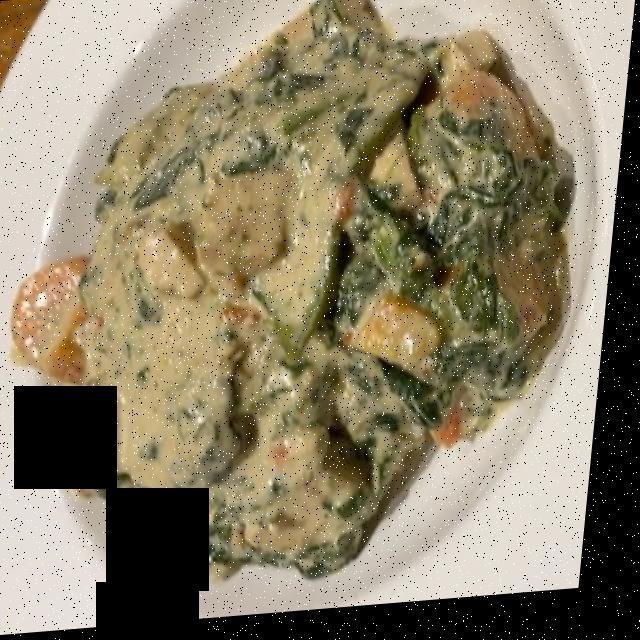curry-vegetarian: (42, 20, 570, 590)
